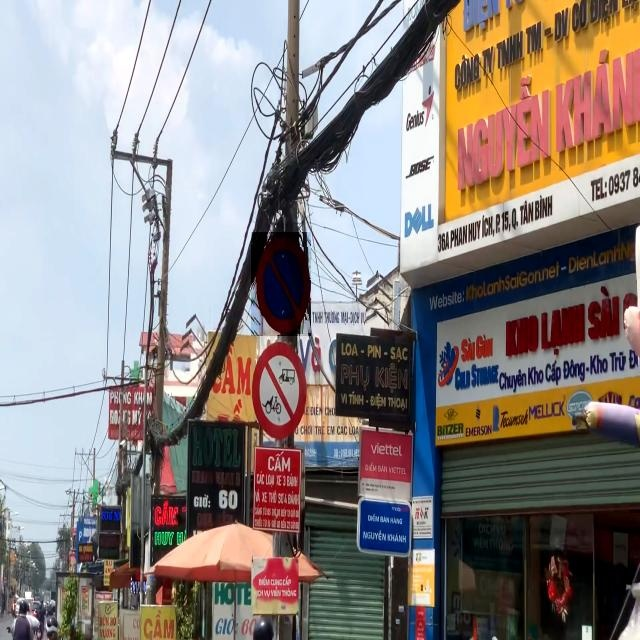bien_cam: (251, 232, 311, 336)
